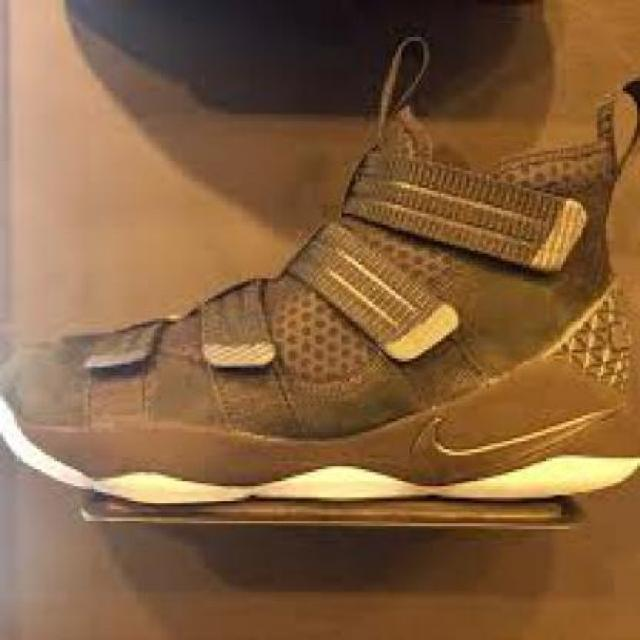Nike: (398, 398, 618, 480)
